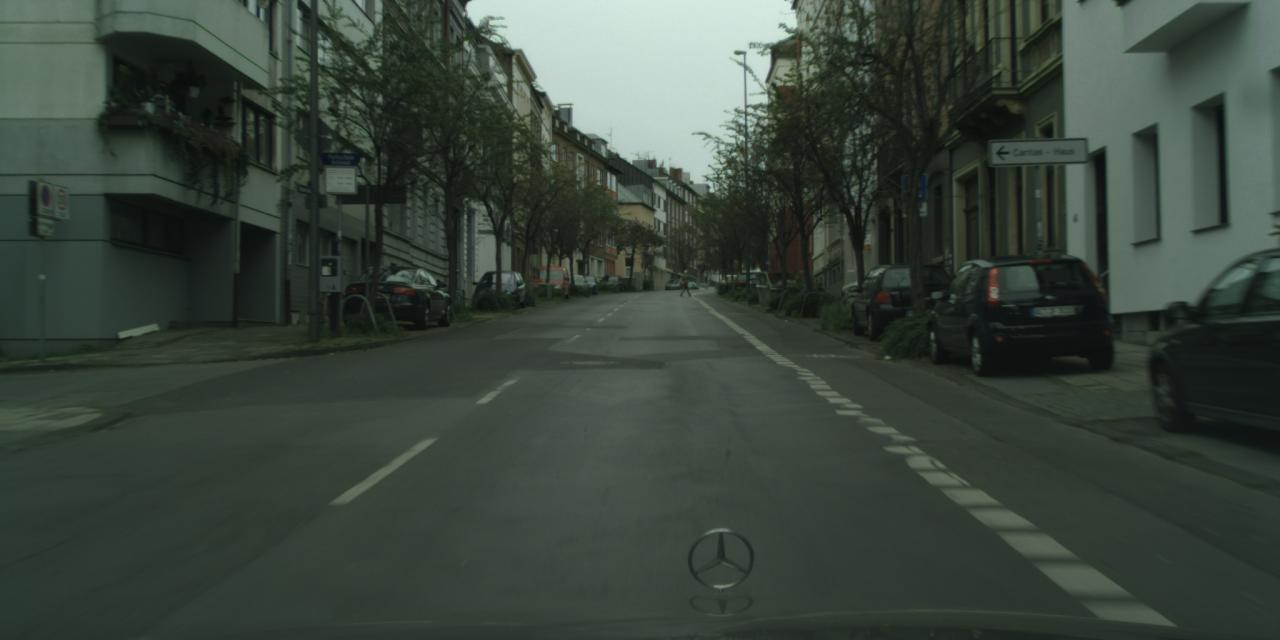ped: (680, 269, 691, 297)
